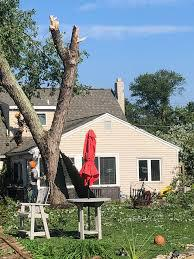affected: (5, 85, 184, 212)
